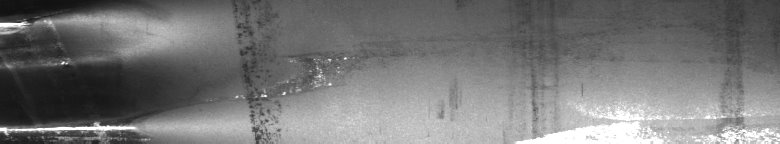ke: (4, 4, 175, 136)
